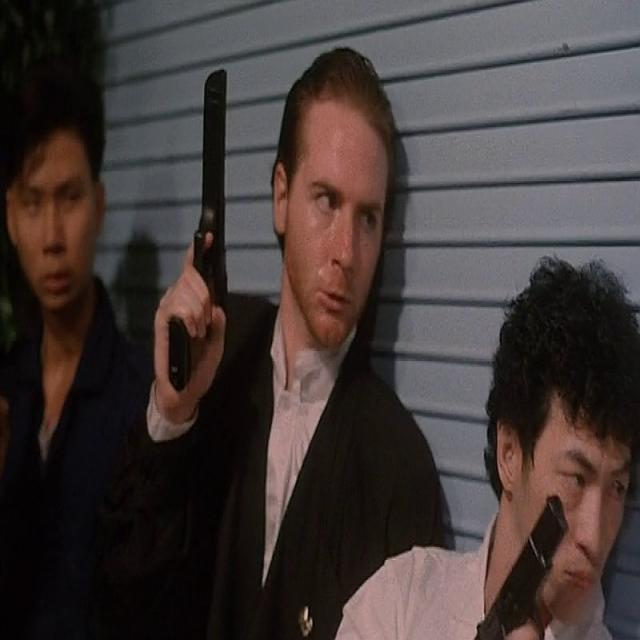gun-knife-thesis - v11 Yolov5 augmented: (130, 61, 262, 423), (426, 492, 576, 638)
